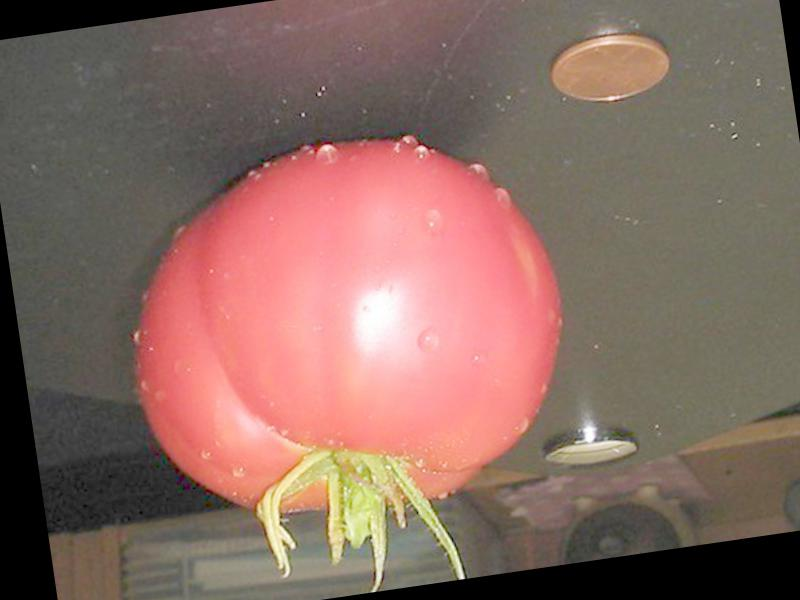Tomato: (105, 114, 584, 540)
